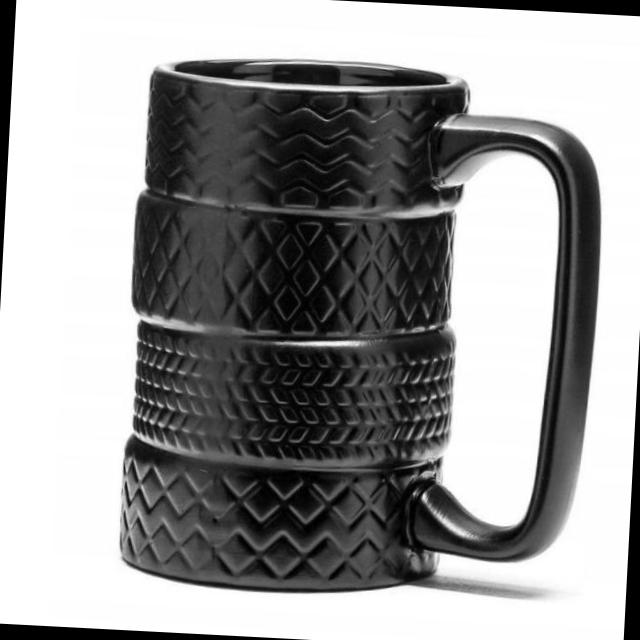Coffee Mug: (118, 50, 610, 604)
